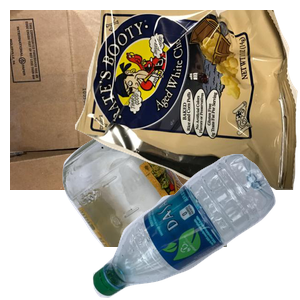cardboard: (10, 10, 250, 190)
glass: (60, 120, 300, 300)
plastic: (90, 154, 300, 300)
trash: (75, 10, 300, 190)
